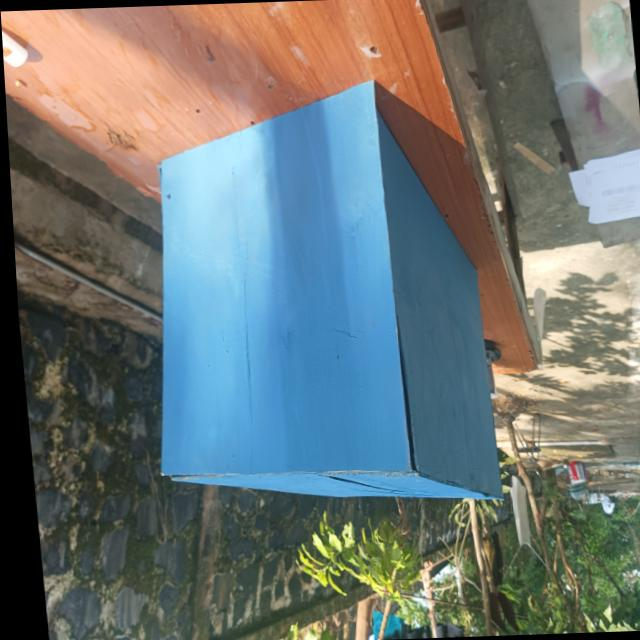blue_box: (105, 32, 529, 559)
